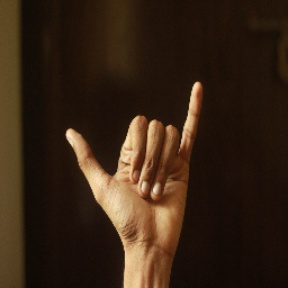J: (66, 80, 206, 247)
